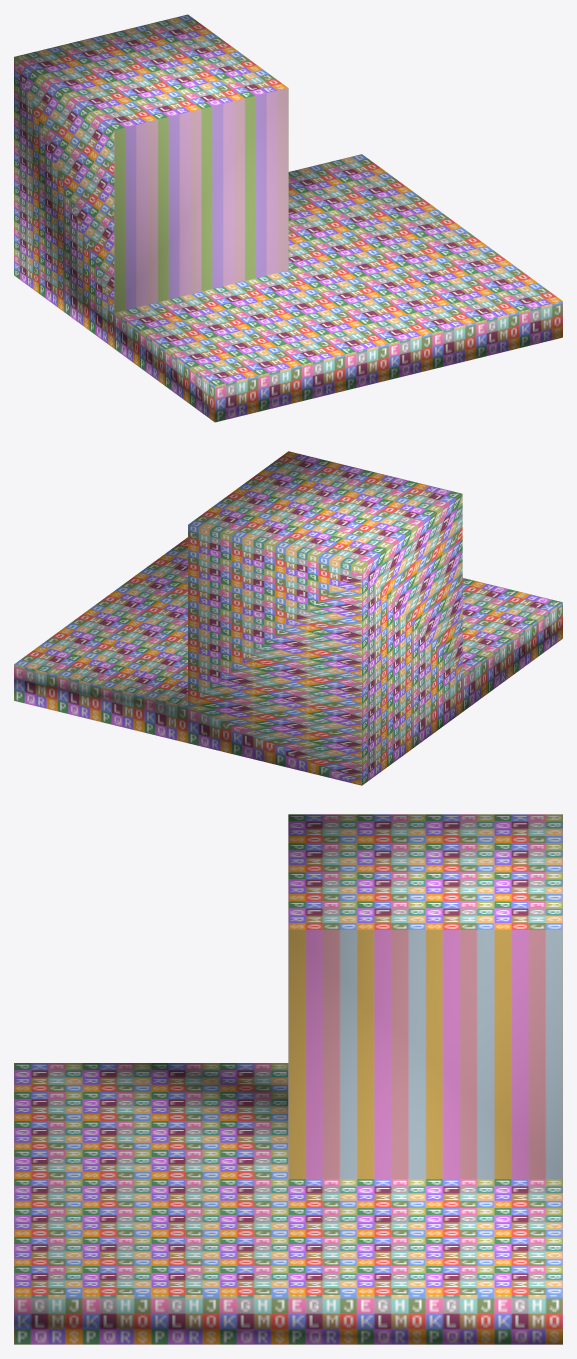
The model's file is Bldg_No_Block.obj.
3 renders of one model, top to bottom at view 1: azimuth 30°, elevation 25°; view 2: azimuth 150°, elevation 25°; view 3: azimuth 270°, elevation 25°, orthographic. The views are drawn at different scales.
Visible parts, largest first — view 1: cube1; view 2: cube1; view 3: cube1.
Part boxes in pixels (x1,y1,x2,y2): cube1: (14, 14, 562, 422); cube1: (14, 451, 562, 785); cube1: (14, 814, 562, 1344).
Bounding box in the file's own units: 1 × 0.6 × 1.
Materials: 1 (1 with a texture image).
